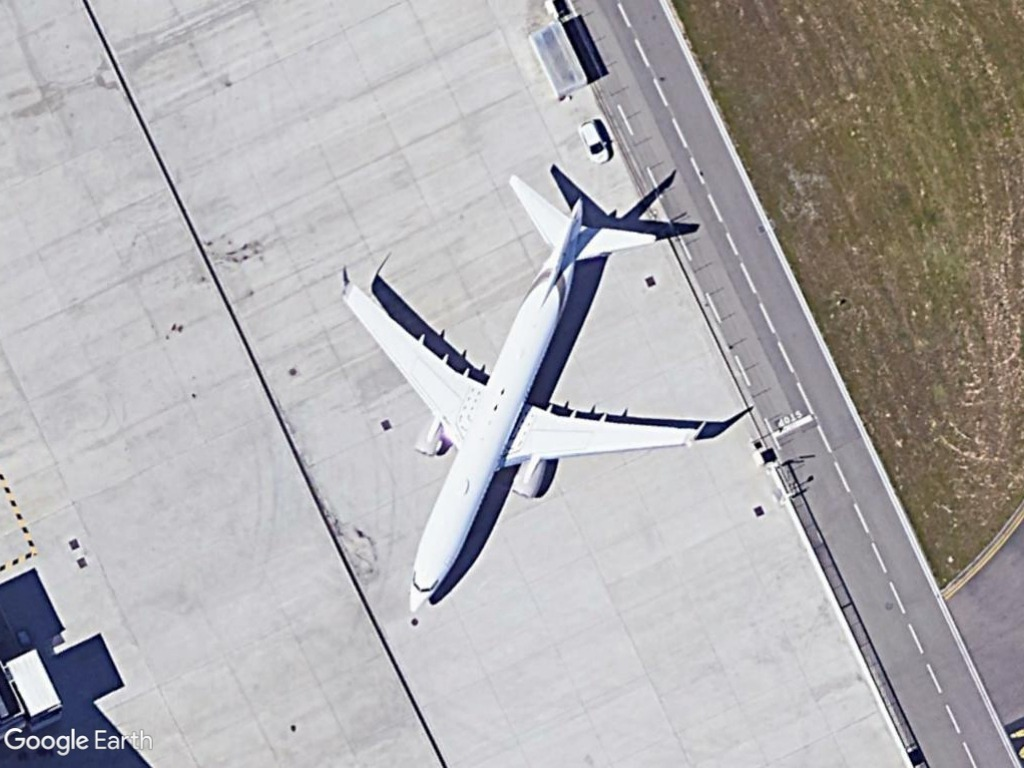airliner: (326, 170, 707, 617)
car: (576, 117, 614, 167)
